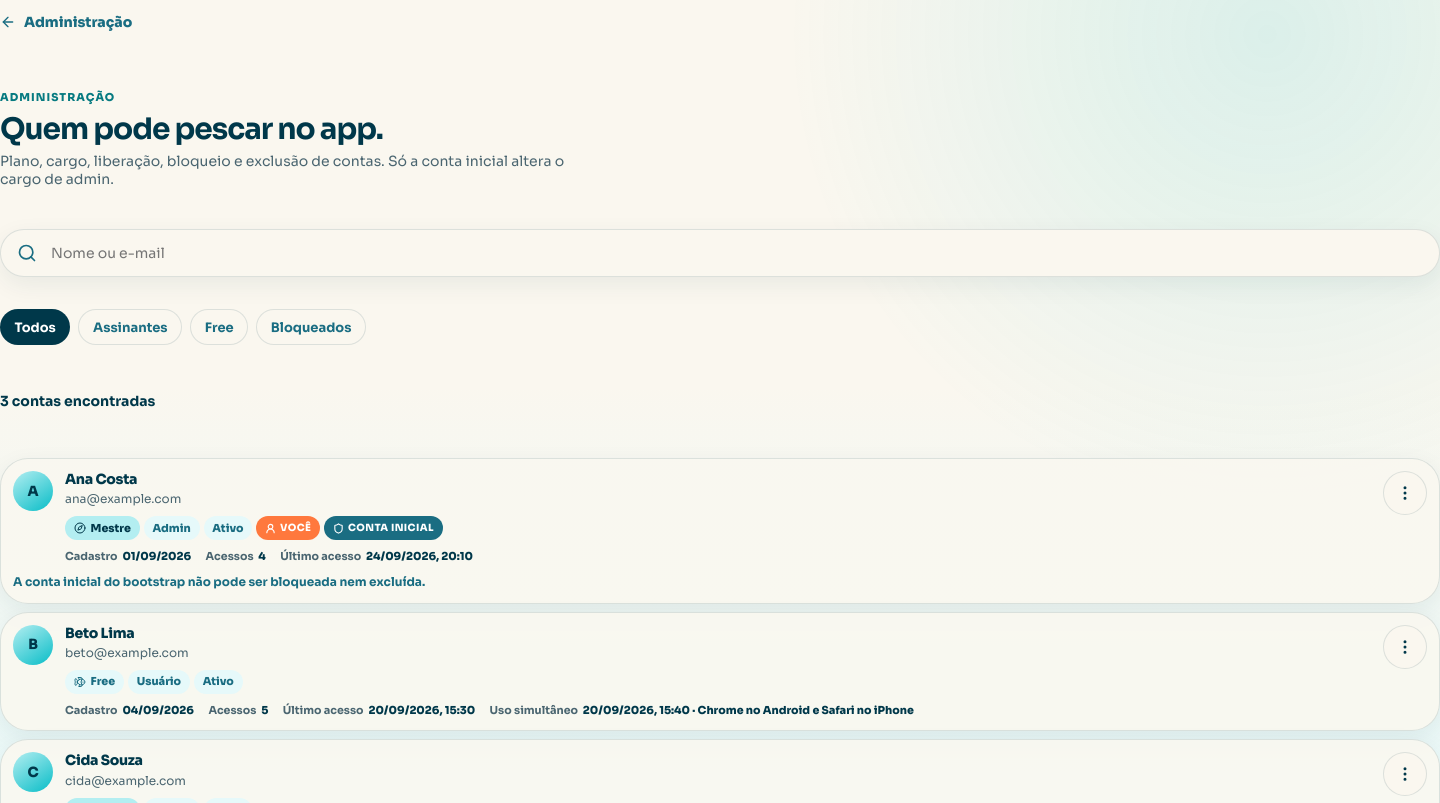
Test: AdminUsersPage › lista contas e filtra por nome sem acento
This screenshot has width=1440, height=803.
Expected: the text "3 contas encontradas" is shown, x1=0 y1=392 x2=155 y2=410
Expected: the text "Ana Costa" is shown, x1=65 y1=470 x2=137 y2=488
Type "beto" into the search field named "Buscar usuários".
click(736, 253); type("beto")  # box x1=49 y1=242 x2=1423 y2=265
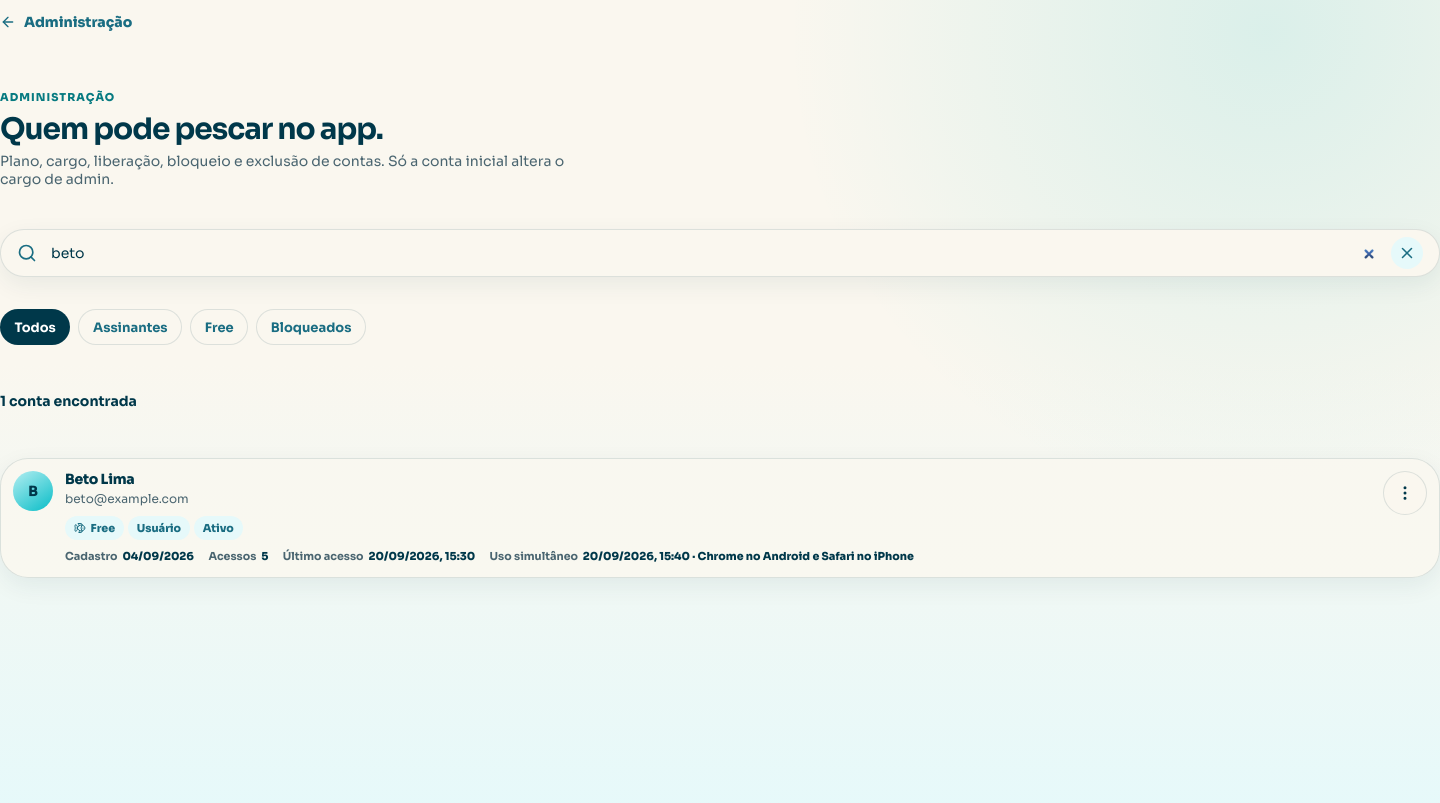
Expected: the text "1 conta encontrada" is shown, x1=0 y1=392 x2=137 y2=410
Expected: the text "Ana Costa" is gone
